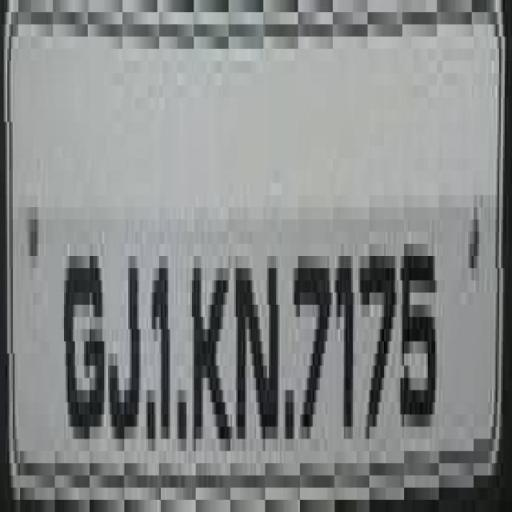number plate: (0, 0, 486, 512)
